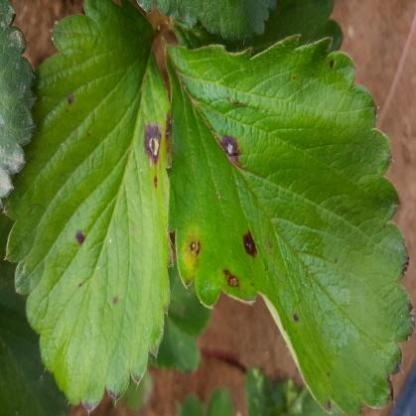Strawberry_Leaf_Spot: (163, 33, 415, 415), (3, 0, 175, 413)
